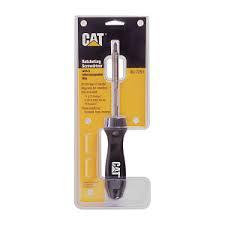screwdriver: (104, 38, 127, 199)
